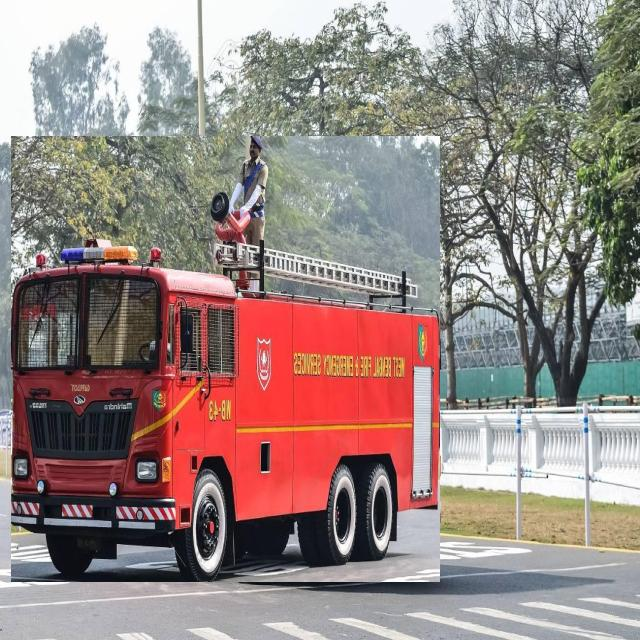emergency: (11, 136, 440, 582)
